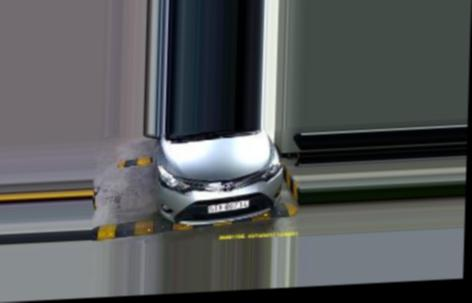License_Plate: (208, 199, 250, 213)
